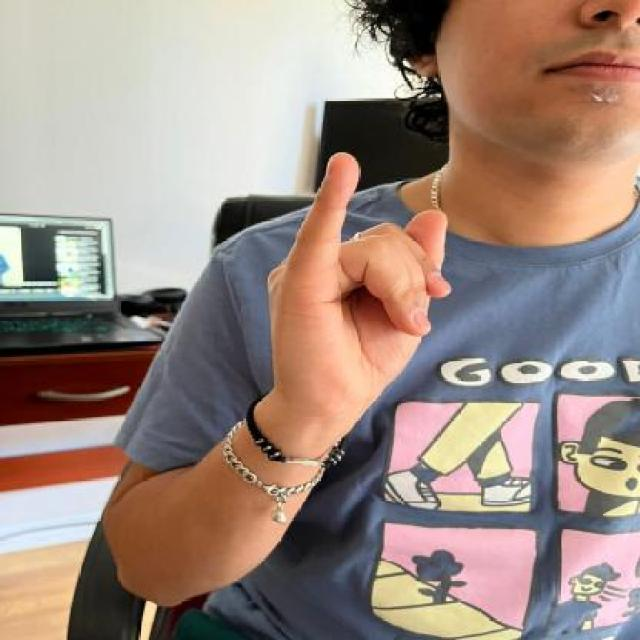I: (260, 146, 463, 417)
